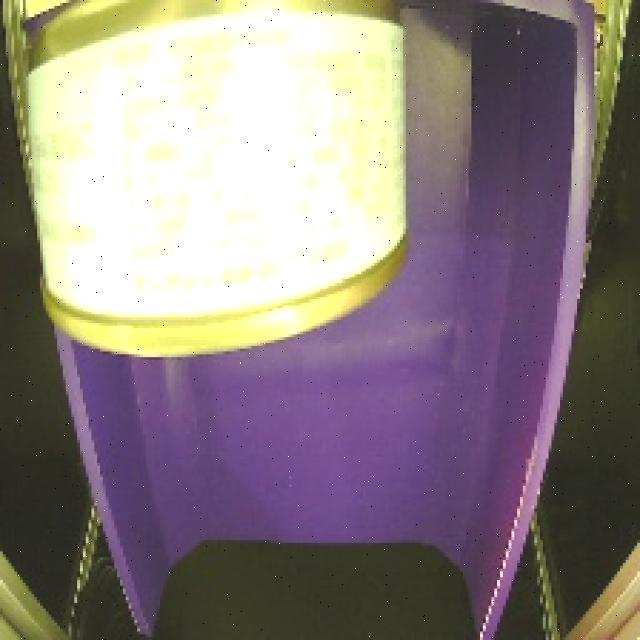metal: (11, 0, 424, 369)
